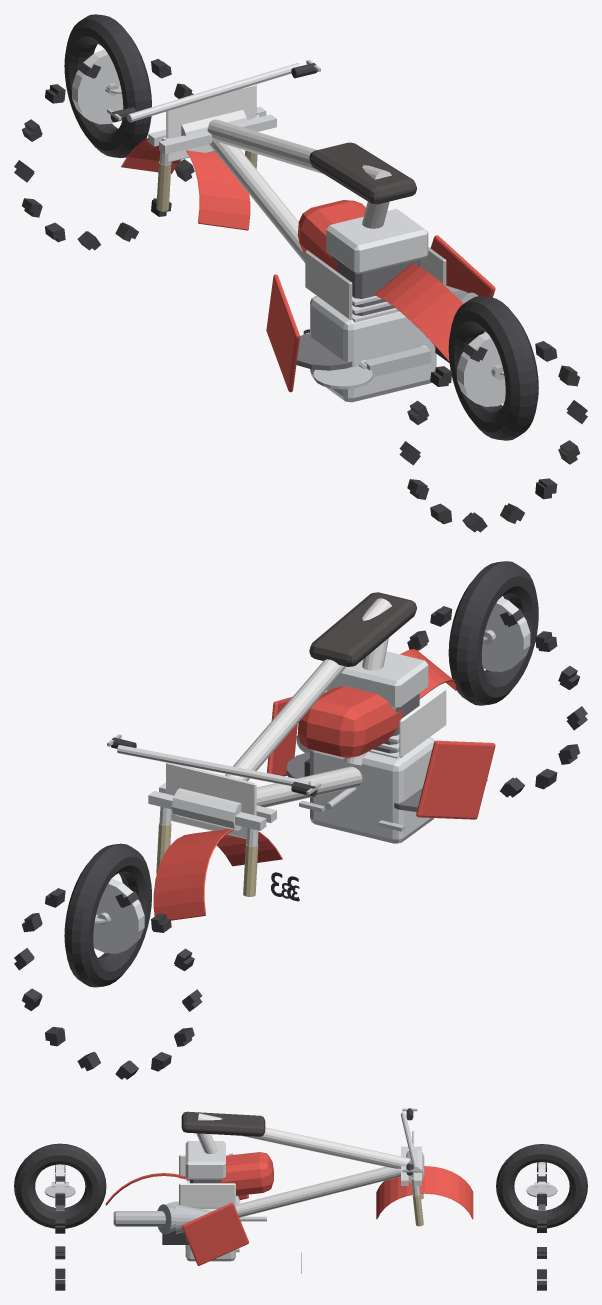
The picture shows the model from 3 angles, top to bottom: view 1: azimuth 30°, elevation 25°; view 2: azimuth 150°, elevation 25°; view 3: azimuth 270°, elevation 25°; orthographic projection. The views are drawn at different scales.
Parts seen in each view (by area): view 1: b_rear_wheel_tire, b_engine_case, b_front_wheel_tire, b_engine_head, b_front_fender, b_rear_fender, b_seat, b_frame_down, b_frame_spine, b_front_plate, b_front_wheel_rim, b_rear_wheel_rim (+11 smaller); view 2: b_engine_case, b_rear_wheel_tire, b_front_wheel_tire, b_front_fender, b_tank, b_shroud_-1, b_seat, b_frame_spine, b_engine_head, b_front_plate, b_front_wheel_rim, b_rear_wheel_rim (+8 smaller); view 3: b_rear_wheel_tire, b_front_wheel_tire, b_shroud_1, b_frame_down, b_front_fender, b_frame_spine, b_tank, b_seat, b_engine_head, b_sideplate_1, b_silencer, b_pipe_c2 (+10 smaller).
Part boxes in pixels (x1,y1,x2,y2): b_rear_wheel_tire: (448,296,538,440); b_engine_case: (310,296,436,402); b_front_wheel_tire: (64,14,151,157); b_engine_head: (326,208,428,274); b_front_fender: (121,138,250,230); b_rear_fender: (374,263,485,361); b_seat: (309,142,416,204); b_frame_down: (209,139,305,262); b_frame_spine: (207,119,391,179); b_front_plate: (166,84,256,162); b_front_wheel_rim: (72,49,123,124); b_rear_wheel_rim: (457,332,505,406); b_engine_case: (310,737,435,843); b_rear_wheel_tire: (448,561,538,705); b_front_wheel_tire: (64,843,151,987); b_front_fender: (153,829,282,920); b_tank: (297,686,402,758); b_shroud_-1: (416,740,495,819); b_seat: (309,592,416,666); b_frame_spine: (225,598,391,781); b_engine_head: (327,651,428,709); b_front_plate: (166,762,256,839); b_front_wheel_rim: (93,878,144,953); b_rear_wheel_rim: (481,597,530,671); b_rear_wheel_tire: (14,1143,106,1228); b_front_wheel_tire: (496,1144,587,1228); b_shroud_1: (181,1202,248,1265); b_frame_down: (236,1167,400,1217); b_front_fender: (376,1166,473,1219); b_frame_spine: (198,1113,410,1168); b_tank: (214,1152,273,1195); b_seat: (181,1111,265,1136); b_engine_head: (185,1141,225,1179); b_sideplate_1: (179,1183,235,1207); b_silencer: (113,1211,212,1226); b_pipe_c2: (176,1204,210,1233).
Size of the model in its own units: 0.872 by 1.13 by 3.43.
